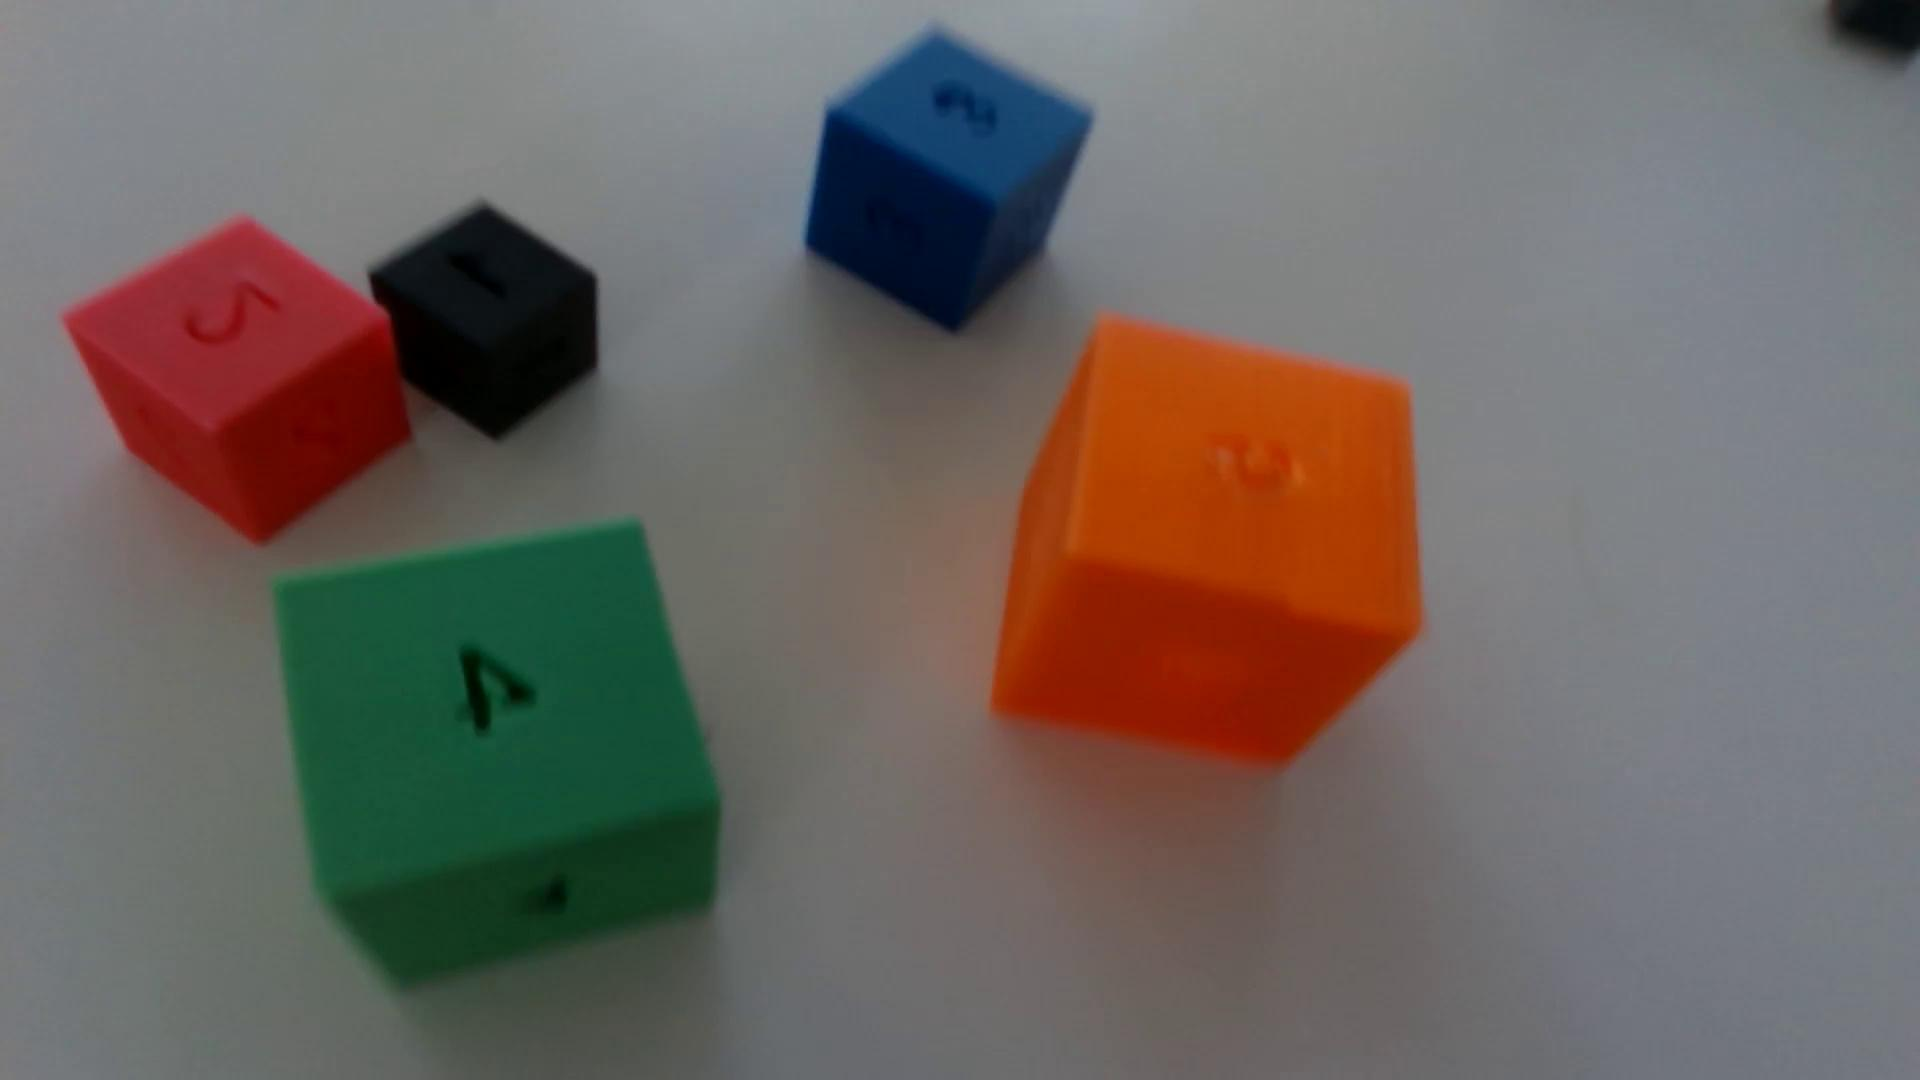black: (371, 204, 599, 440)
blue: (806, 32, 1093, 332)
green: (274, 521, 721, 985)
orange: (992, 319, 1422, 765)
red: (65, 219, 411, 545)
